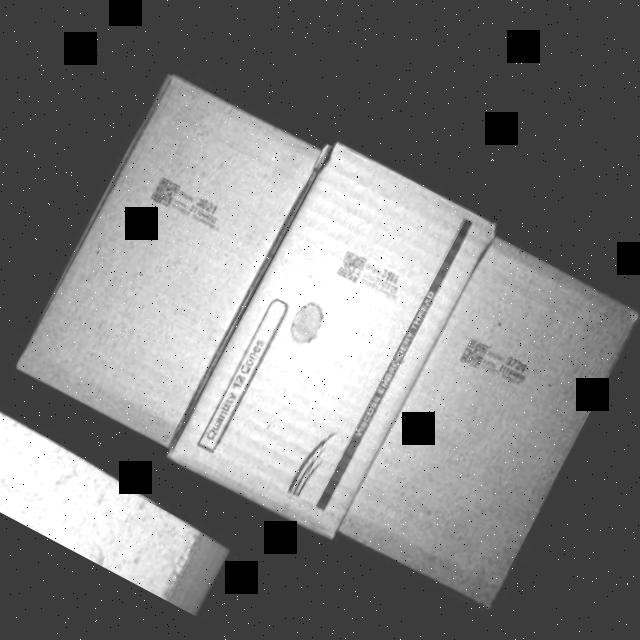box: (170, 144, 502, 546), (13, 65, 328, 451), (344, 242, 640, 606)
